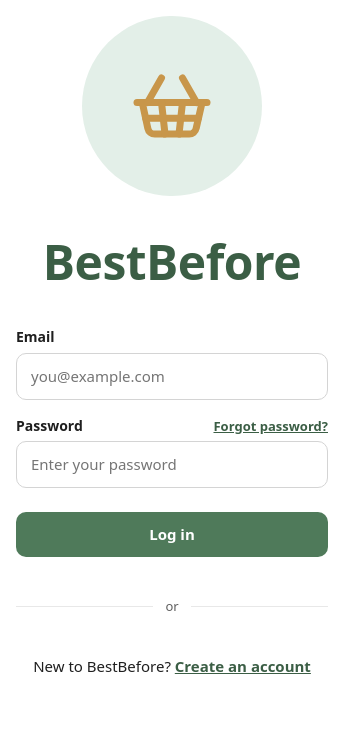
Test: Login › shows inline errors when submitted empty
The width and height of the screenshot is (345, 739).
Click the button "Log in" at x=172, y=535, box left=16, top=512, right=328, bottom=557
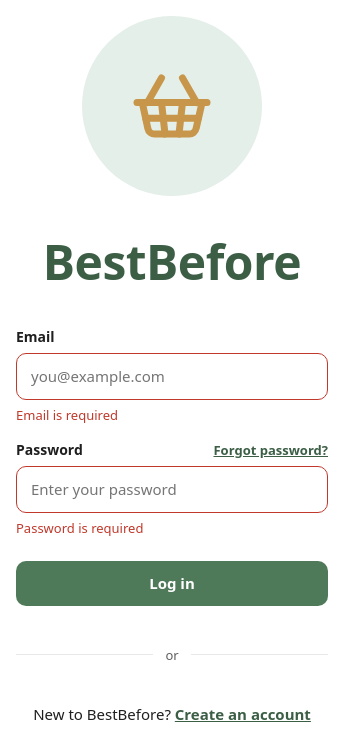
Result: the text "Email is required" is shown at left=16, top=406, right=118, bottom=424
Result: the text "Password is required" is shown at left=16, top=519, right=143, bottom=537
